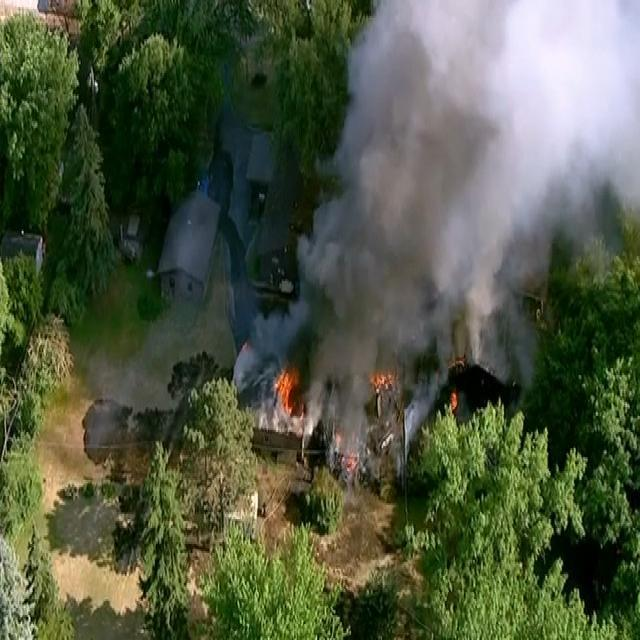Fire: (270, 359, 310, 437), (363, 364, 398, 400), (334, 438, 361, 476), (446, 385, 459, 416)
Smoke: (242, 0, 640, 418)
